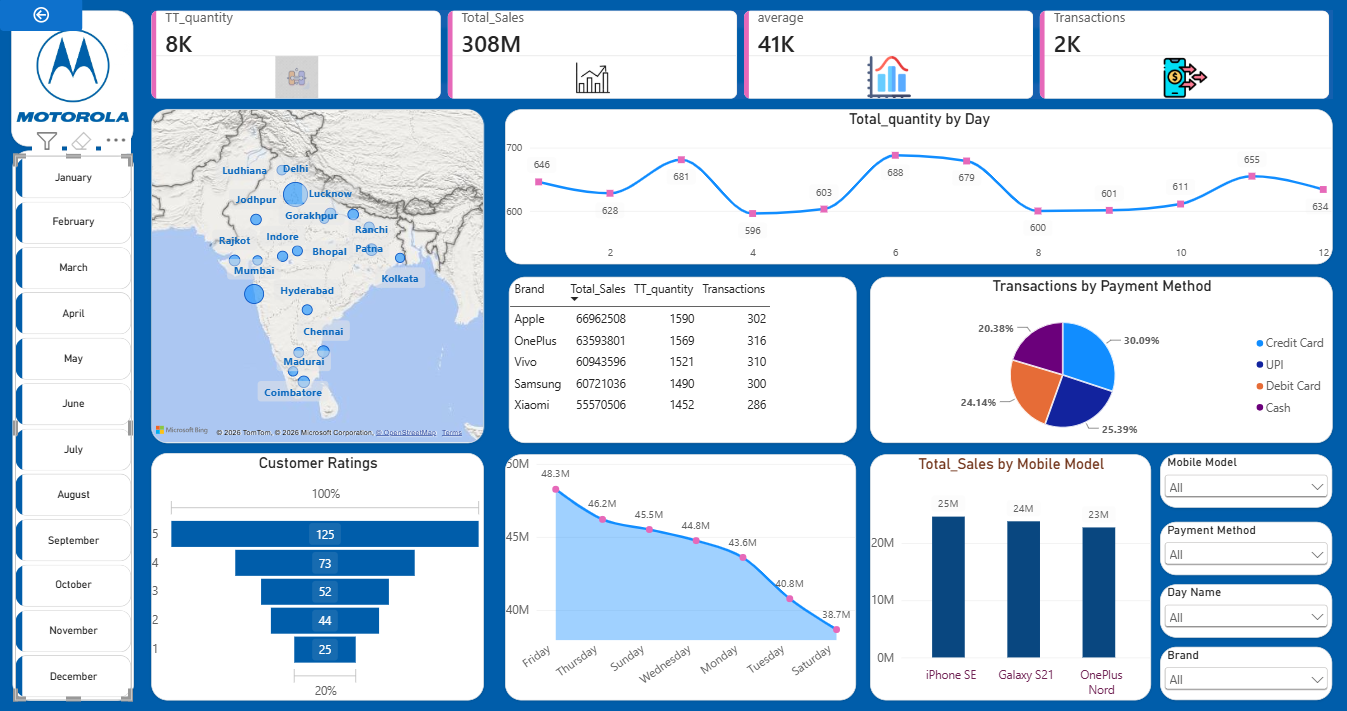

This screenshot's page, from the dashboard's own definition file:
{"tool":"powerbi","page":{"name":"Page 1","canvas":[1920,1080],"ordinal":0},"visuals":[{"type":"shape","box":[12.9,14.5,148.4,164.5],"z":0},{"type":"image","box":[17.7,27.4,140.3,133.9],"z":1000},{"type":"shape","box":[15.2,184.8,147,666.7],"z":2000},{"type":"advancedSlicerVisual","fields":{"Values":["Sheet1.Date.Variation.Date Hierarchy.Month"]},"box":[18.2,190.9,142.4,660.6],"z":3000},{"type":"cardVisual","fields":{"Data":["Sheet1.TT_quantity","Sheet1.Total_Sales","Sheet1.average","Sheet1.Transactions"]},"box":[183.3,15.2,1431.8,107.6],"z":4000},{"type":"map","fields":{"Category":["Sheet1.City"],"Size":["Sheet1.Total_Sales"]},"box":[183.3,134.8,403,404.5],"z":5000},{"type":"lineChart","fields":{"Category":["Sheet1.Date.Variation.Date Hierarchy.Month","Sheet1.Date.Variation.Date Hierarchy.Day"],"Y":["Sheet1.TT_quantity"]},"box":[612.1,134.8,1003,187.9],"z":6000},{"type":"clusteredColumnChart","fields":{"Category":["Sheet1.Mobile Model"],"Y":["Sheet1.Total_Sales"]},"box":[1054.5,553,340.9,298.5],"z":7000},{"type":"pieChart","fields":{"Category":["Sheet1.Payment Method"],"Y":["Sheet1.Transactions"]},"box":[1054.5,337.9,560.6,201.5],"z":8000},{"type":"funnel","title":"Customer Ratings","fields":{"Category":["Sheet1.Customer Ratings"],"Y":["CountNonNull(Sheet1.Customer Ratings)"]},"box":[183.3,551.5,403,300],"z":9000},{"type":"areaChart","fields":{"Category":["Sheet1.Day Name"],"Y":["Sheet1.Total_Sales"]},"box":[612.1,553,425.8,298.5],"z":10000},{"type":"tableEx","fields":{"Values":["Sheet1.Brand","Sheet1.Total_Sales","Sheet1.TT_quantity","Sheet1.Transactions"]},"box":[616.7,337.9,421.2,201.5],"z":11000},{"type":"actionButton","box":[0,0,100,40],"z":12000},{"type":"slicer","fields":{"Values":["Sheet1.Mobile Model"]},"box":[1406.1,553,209.1,65.2],"z":12001},{"type":"slicer","fields":{"Values":["Sheet1.Payment Method"]},"box":[1406.1,634.8,209.1,65.2],"z":12002},{"type":"slicer","fields":{"Values":["Sheet1.Day Name"]},"box":[1406.1,710.6,209.1,65.2],"z":12003},{"type":"slicer","fields":{"Values":["Sheet1.Brand"]},"box":[1406.1,786.4,209.1,65.2],"z":12004}]}

Visuals, with their boxes on the page's 1920x1080 design canvas (x1, y1, x2, y2). These are canvas units, not pixel positions in the 1347x711 screenshot, which may show the page scaled, cropped or inside an application window:
shape: select_region(13, 14, 161, 179)
image: select_region(18, 27, 158, 161)
shape: select_region(15, 185, 162, 852)
advancedSlicerVisual - Sheet1.Date.Variation.Date Hierarchy.Month: select_region(18, 191, 161, 852)
cardVisual - Sheet1.TT_quantity x Sheet1.Total_Sales: select_region(183, 15, 1615, 123)
map - Sheet1.City x Sheet1.Total_Sales: select_region(183, 135, 586, 539)
lineChart - Sheet1.Date.Variation.Date Hierarchy.Month x Sheet1.Date.Variation.Date Hierarchy.Day: select_region(612, 135, 1615, 323)
clusteredColumnChart - Sheet1.Mobile Model x Sheet1.Total_Sales: select_region(1054, 553, 1395, 852)
pieChart - Sheet1.Payment Method x Sheet1.Transactions: select_region(1054, 338, 1615, 539)
"Customer Ratings" funnel: select_region(183, 552, 586, 852)
areaChart - Sheet1.Day Name x Sheet1.Total_Sales: select_region(612, 553, 1038, 852)
tableEx - Sheet1.Brand x Sheet1.Total_Sales: select_region(617, 338, 1038, 539)
actionButton: select_region(0, 0, 100, 40)
slicer - Sheet1.Mobile Model: select_region(1406, 553, 1615, 618)
slicer - Sheet1.Payment Method: select_region(1406, 635, 1615, 700)
slicer - Sheet1.Day Name: select_region(1406, 711, 1615, 776)
slicer - Sheet1.Brand: select_region(1406, 786, 1615, 852)
